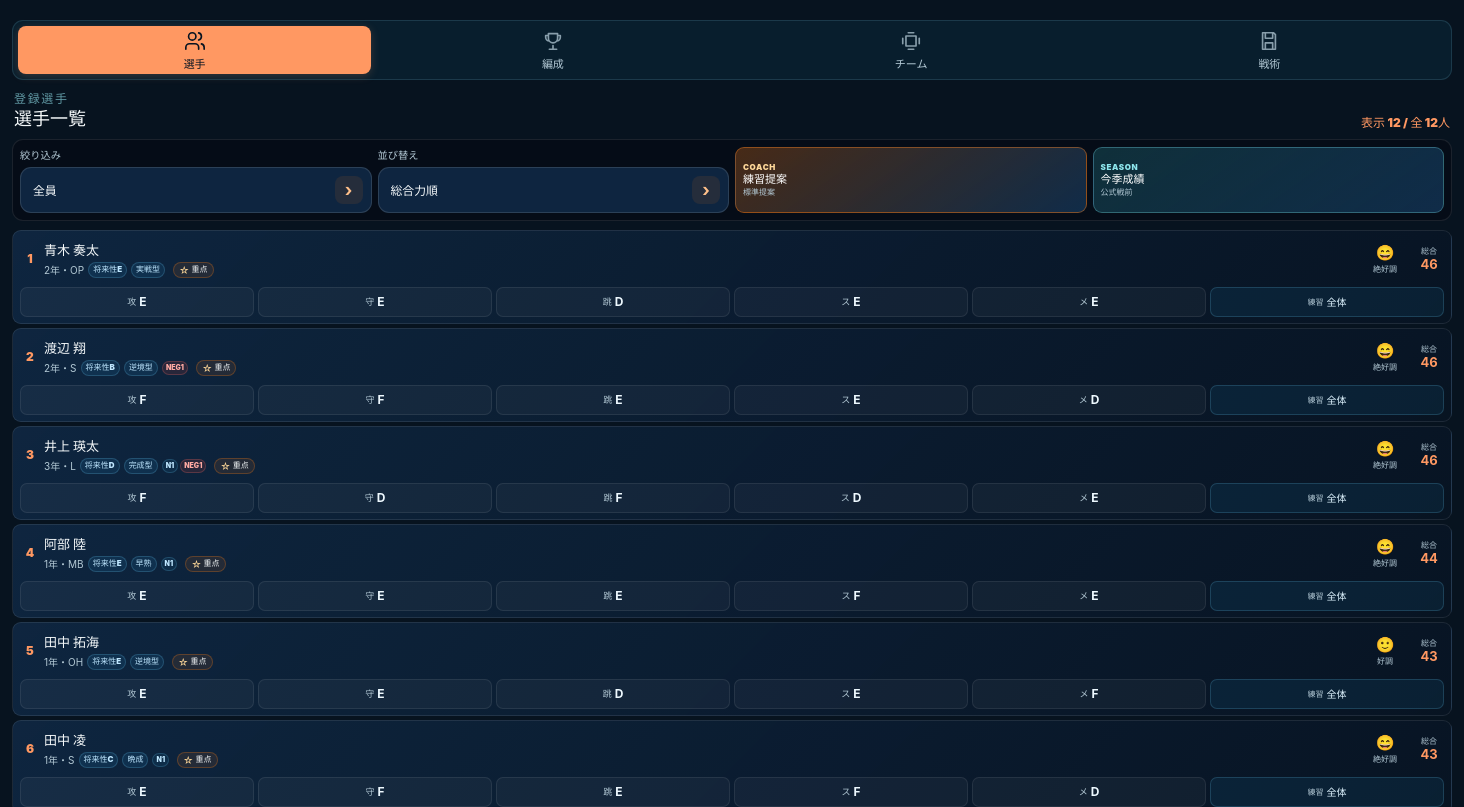
Test: PlayerHubScreen team tactics › adds a fourth tactics tab and derives the authoritative school plan
The image size is (1464, 807).
Check: the button "選手" is shown, box 18,26 -> 371,74
Check: the button "編成" is shown, box 376,26 -> 730,74
Click the button "戦術".
click(1269, 50)  # box 1093,26 -> 1446,74
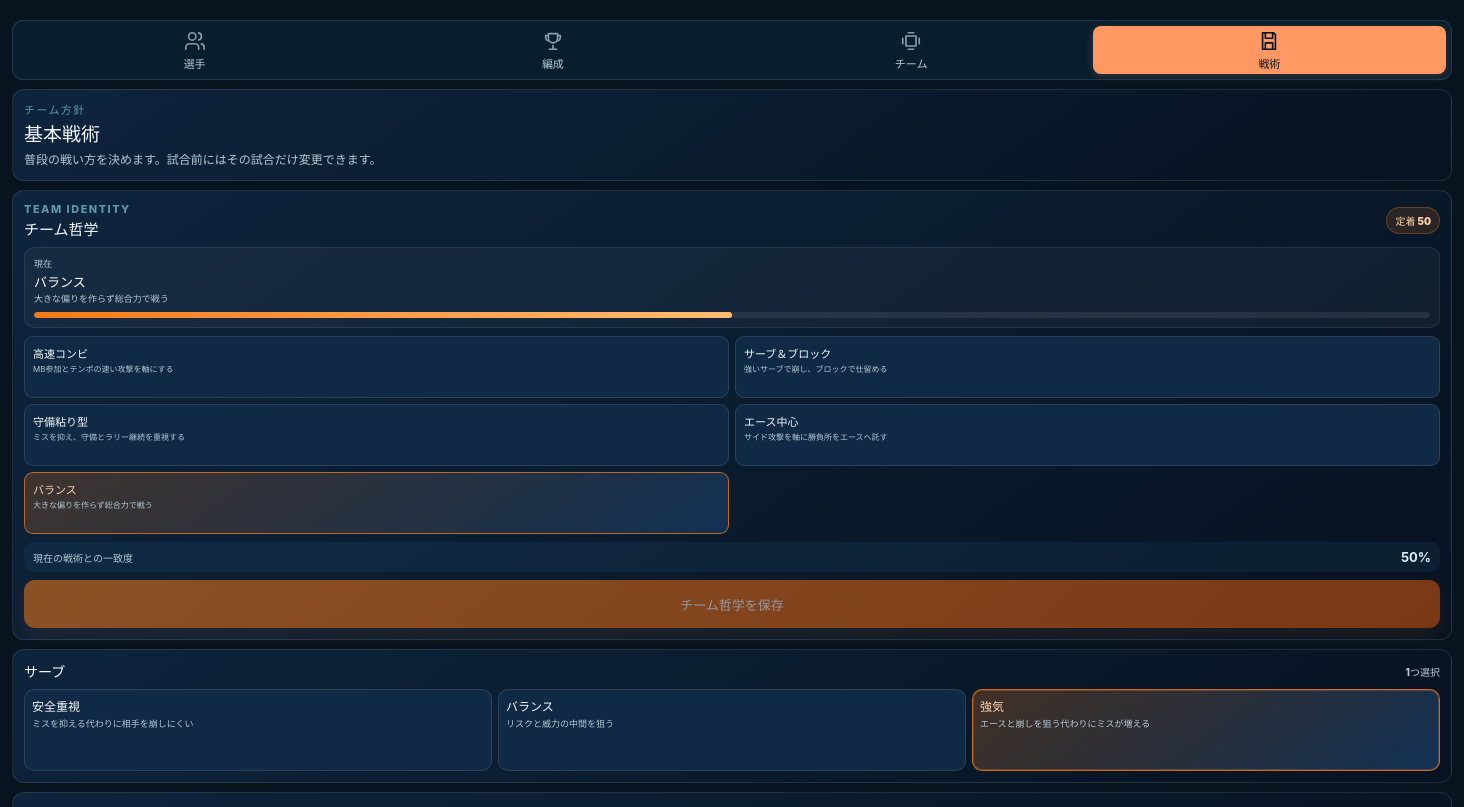
Check: the heading "基本戦術" is shown, box 24,123 -> 100,146
Check: the button "強気 エースと崩しを狙う代わりにミスが増える" is shown, box 972,689 -> 1440,771
